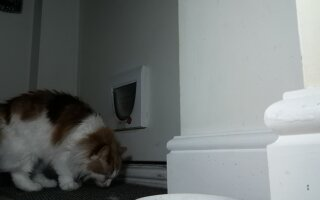clara: (5, 86, 130, 189)
